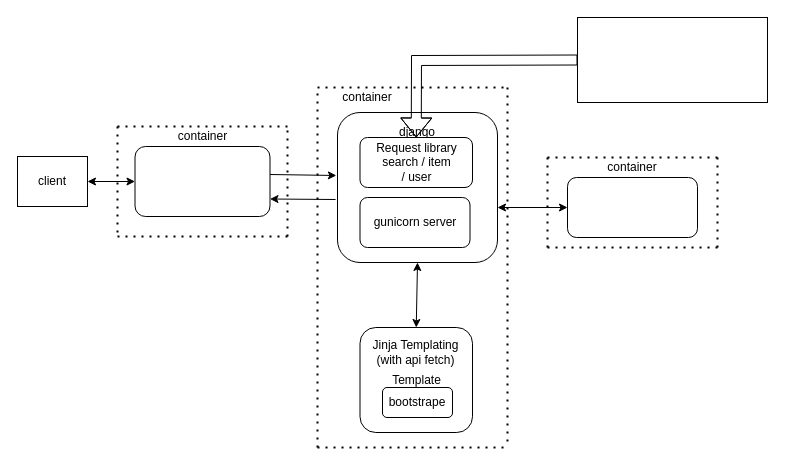
This 785x467 diagram has some shape labels left out. The shapes that lost their labels are listed below. From the top down, each one's centre as x and y in pixels, then its label:
At (x=672, y=59): "API server".
At (x=202, y=181): "Nginx Server (reverse proxy)".
At (x=632, y=207): "(local) Redis Cache".
